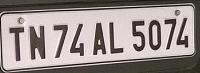0: (147, 18, 161, 49)
4: (68, 22, 86, 55), (176, 16, 189, 47)
5: (130, 18, 145, 51)
7: (50, 22, 67, 58), (162, 16, 176, 49)
A: (91, 20, 105, 54)
L: (107, 20, 123, 53)
N: (27, 23, 45, 59)
T: (6, 25, 25, 60)
